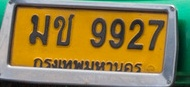txt08: (52, 13, 75, 47)
txt28: (27, 13, 51, 46)
